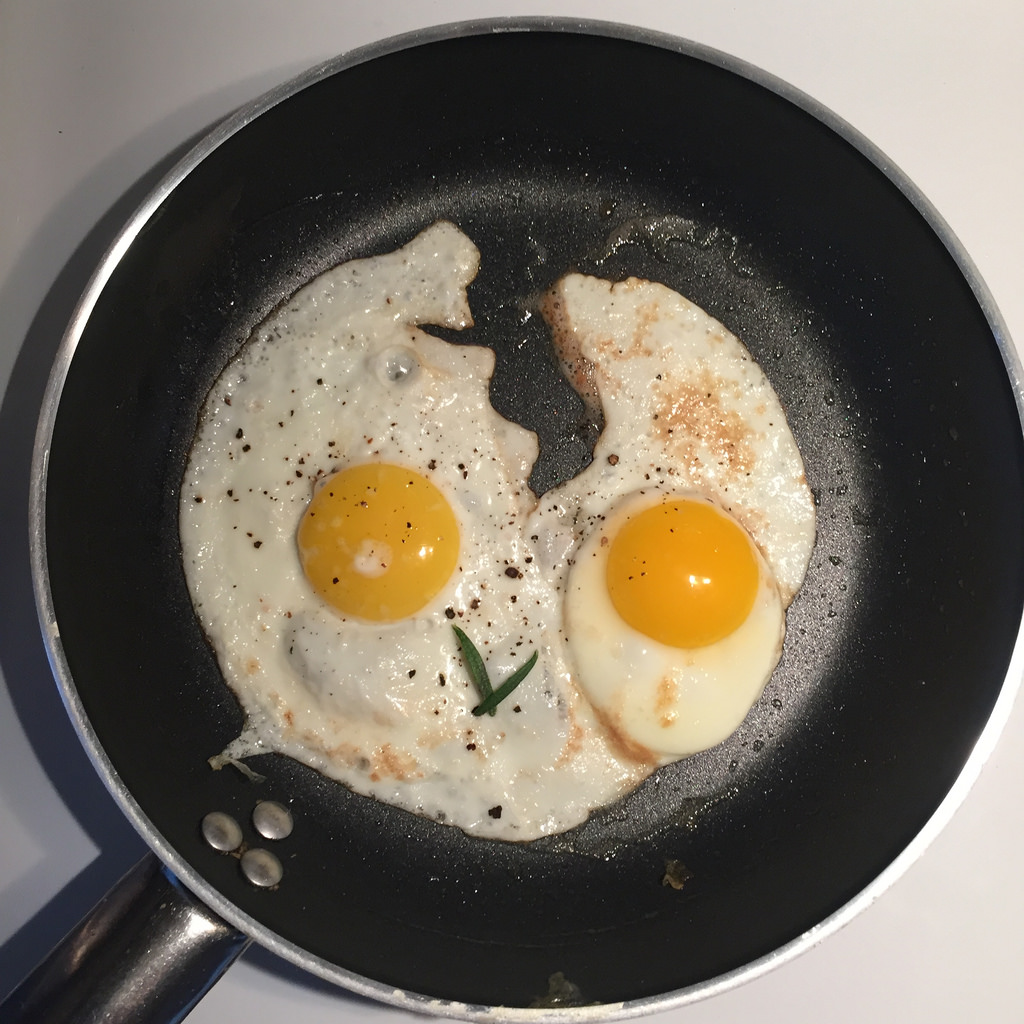fried egg: (217, 278, 796, 783)
